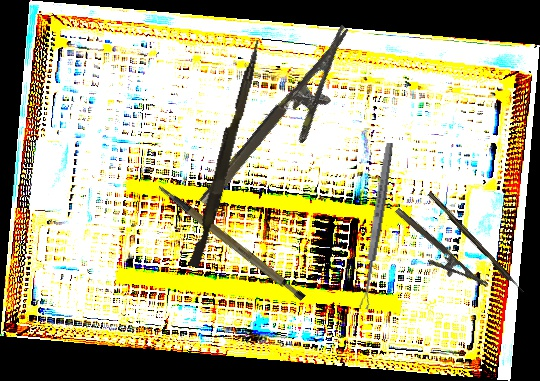Hook Surgical: (427, 191, 525, 295)
Needle Holder: (196, 24, 378, 228), (384, 206, 489, 302)
Pusher: (188, 37, 263, 270)
Scalpel Handle: (157, 164, 308, 318)
Surgical Spoon: (357, 142, 396, 310)
